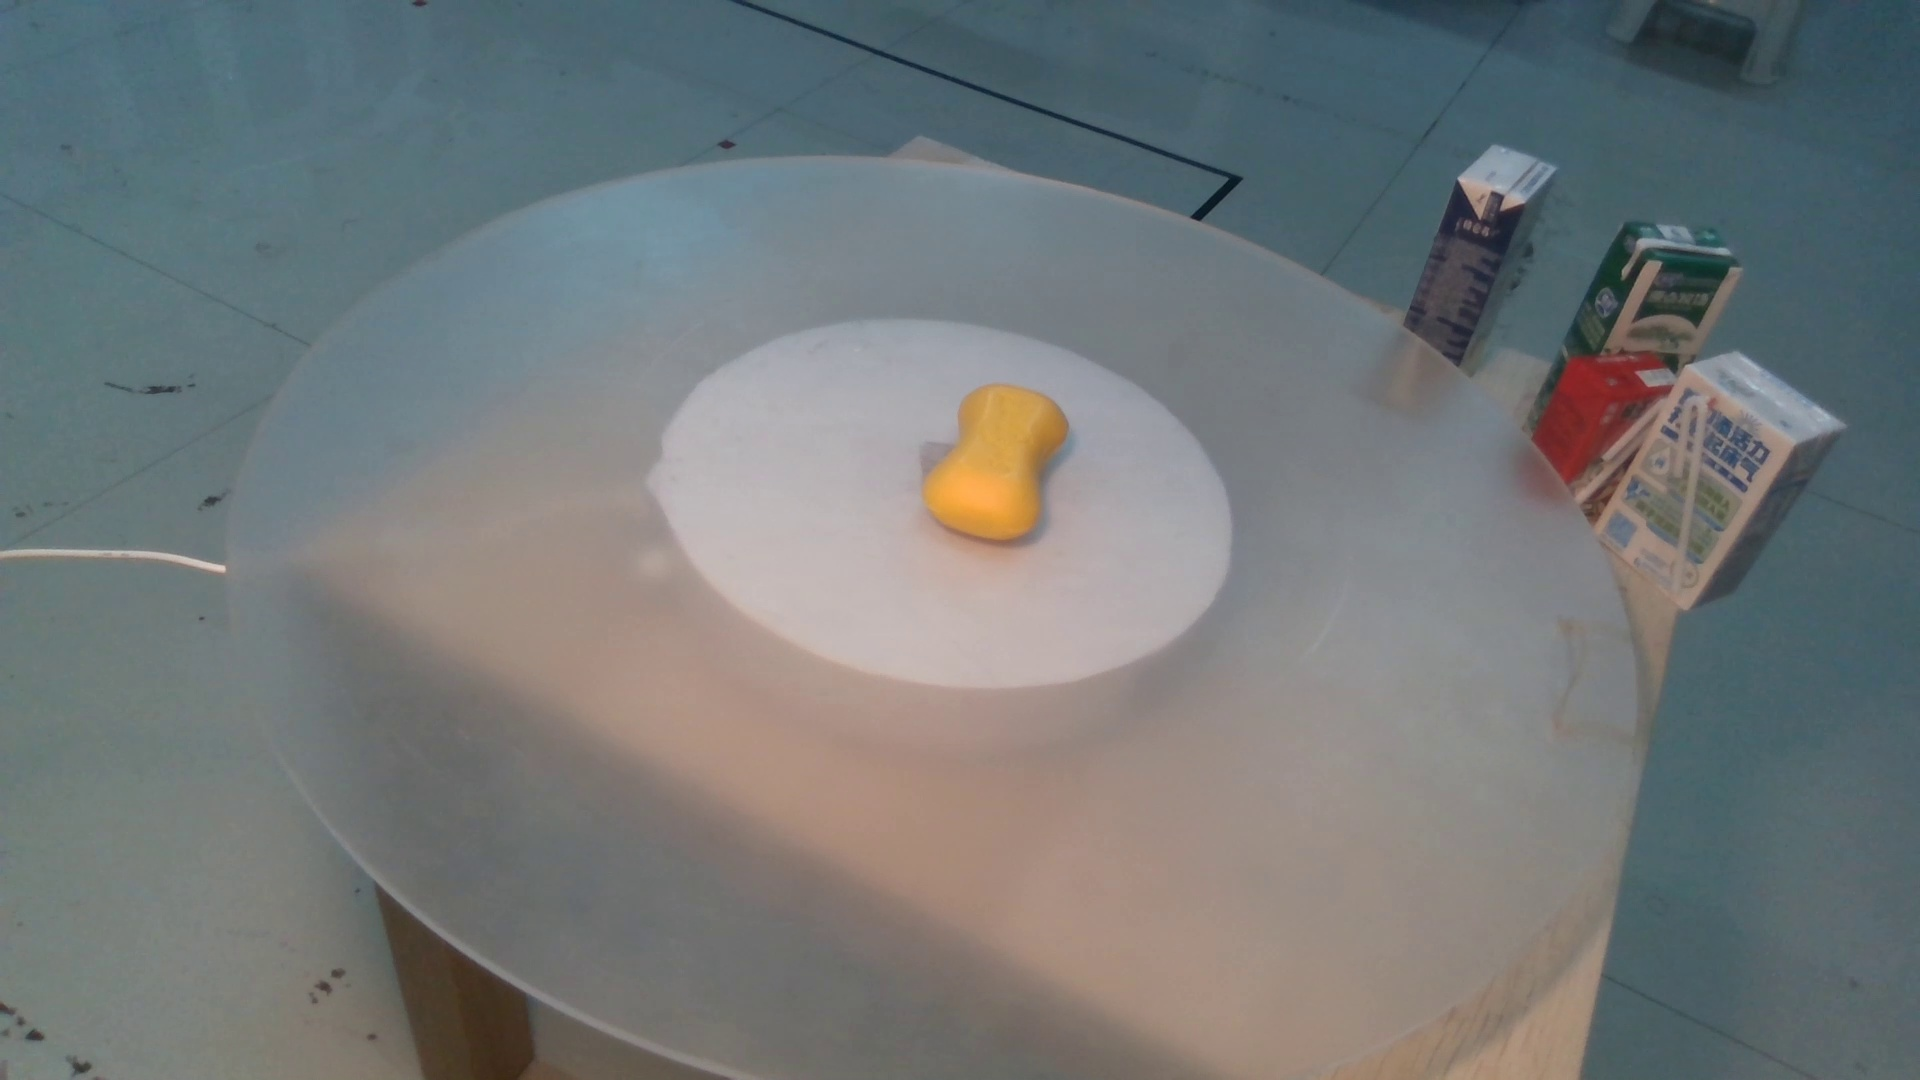CA003_1: (897, 377, 1101, 553)
